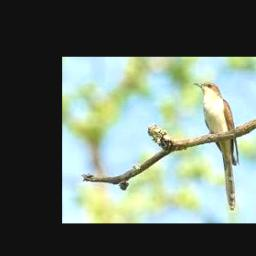Cuckoo: (192, 82, 240, 210)
